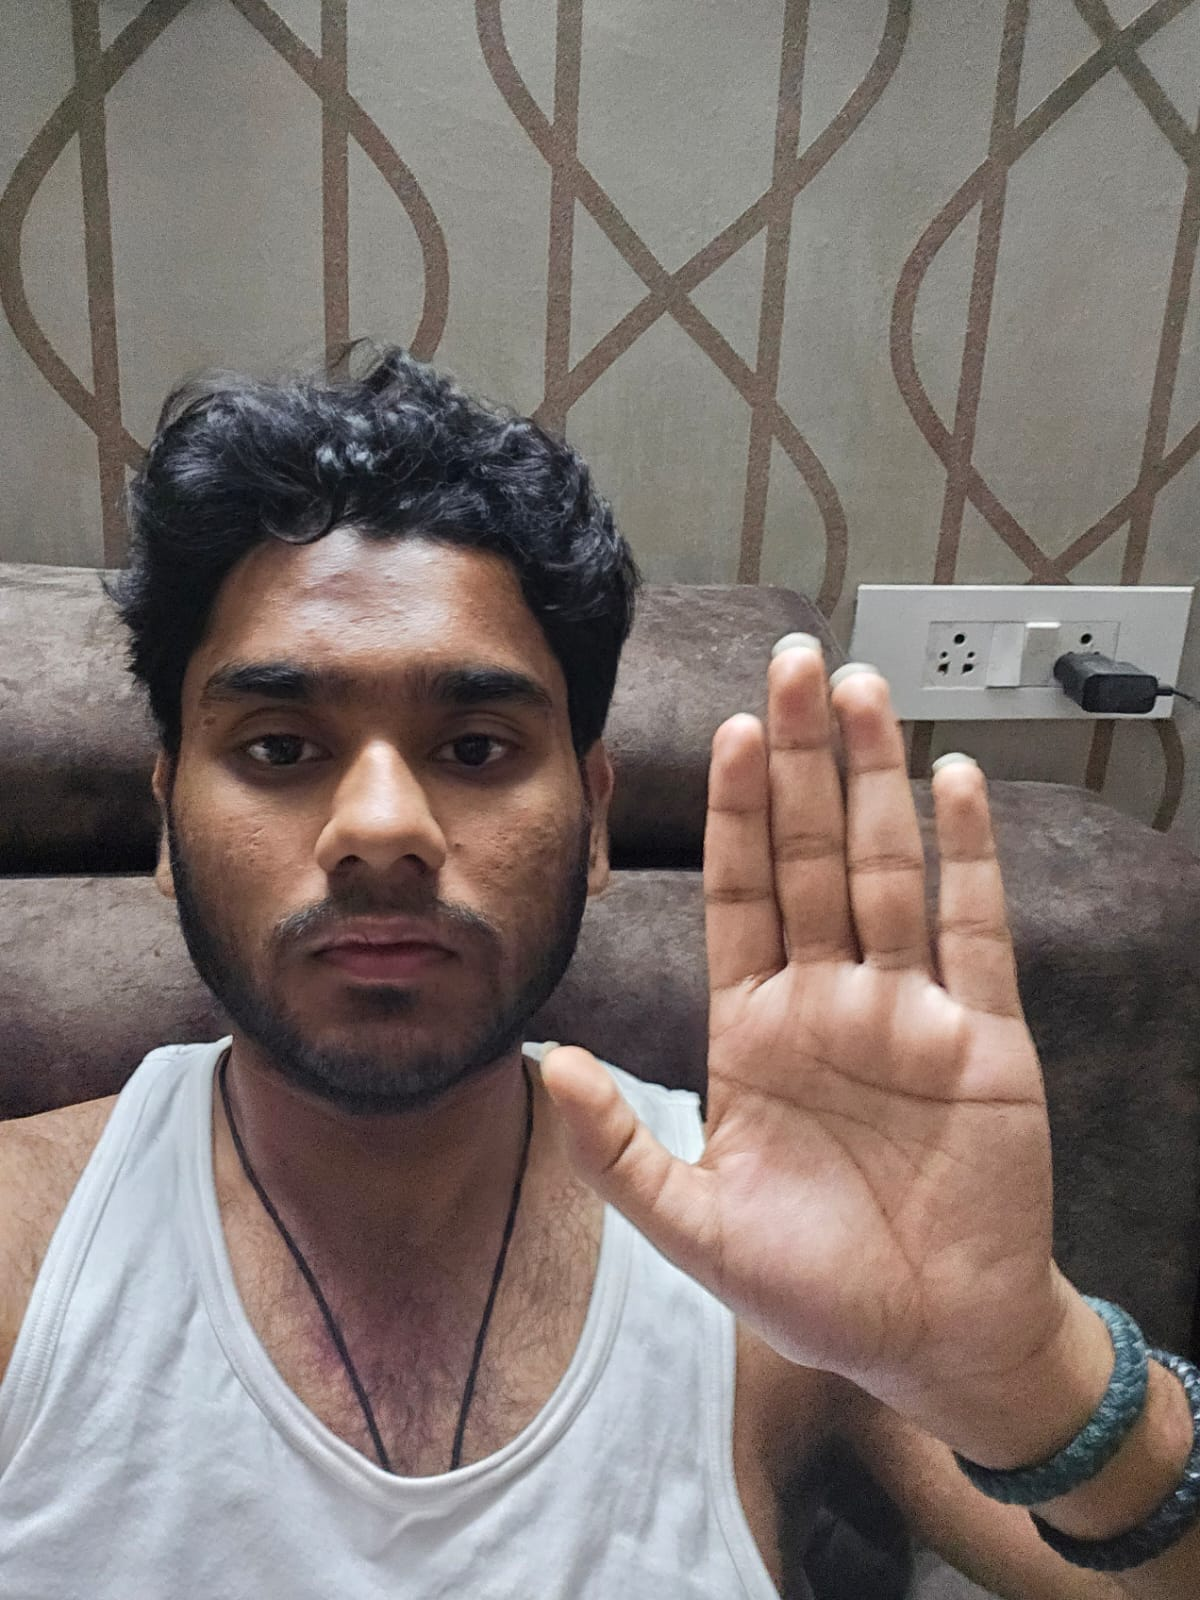hello: (545, 629, 1059, 1393)
